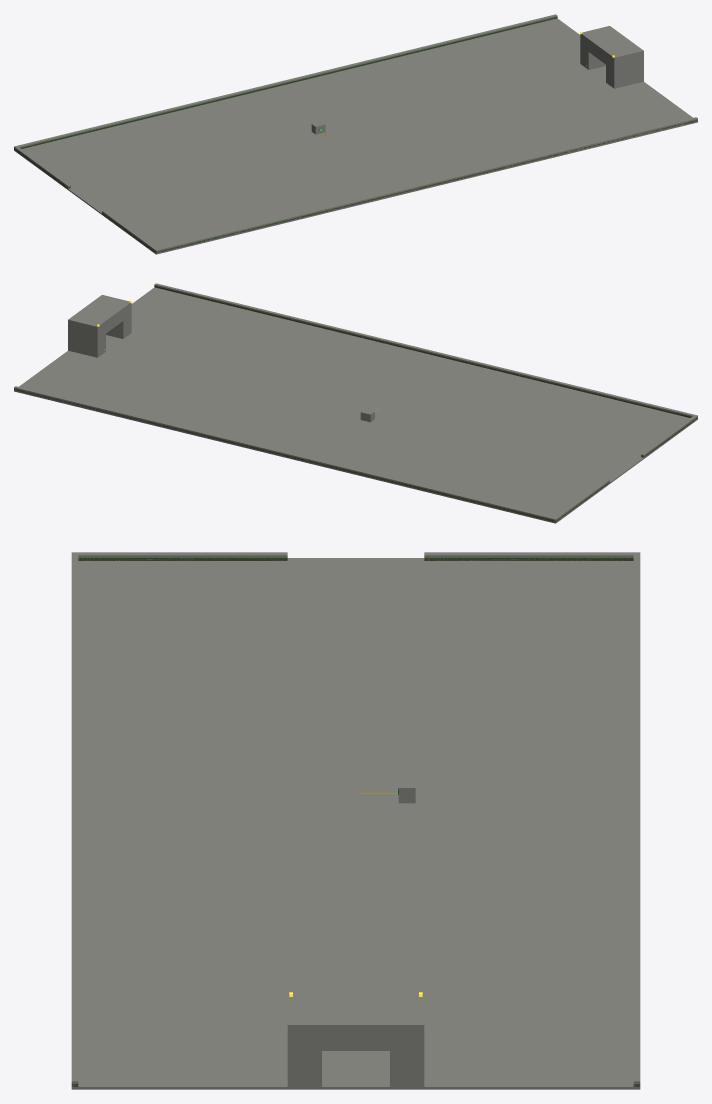
The picture shows the model from 3 angles, top to bottom: view 1: azimuth 30°, elevation 25°; view 2: azimuth 150°, elevation 25°; view 3: azimuth 270°, elevation 25°; orthographic projection. The views are drawn at different scales.
Visible parts, largest first — view 1: COL_plaza, GEO_planters, GEO_plaza, GEO_gate_portal; view 2: COL_plaza, GEO_planters, GEO_plaza, GEO_gate_portal; view 3: COL_plaza, GEO_gate_portal, GEO_plaza, GEO_planters.
Part boxes in pixels (x1,y1,x2,y2): COL_plaza: (14, 14, 697, 254); GEO_planters: (14, 17, 697, 253); GEO_plaza: (14, 121, 697, 254); GEO_gate_portal: (588, 32, 634, 64); COL_plaza: (14, 283, 697, 523); GEO_planters: (14, 286, 697, 522); GEO_plaza: (14, 390, 697, 523); GEO_gate_portal: (77, 301, 123, 333); COL_plaza: (71, 552, 640, 1089); GEO_gate_portal: (287, 996, 424, 1086); GEO_plaza: (71, 1087, 640, 1089); GEO_planters: (71, 558, 640, 1086).
Bounding box in the file's own units: 220 × 13.1 × 100.
